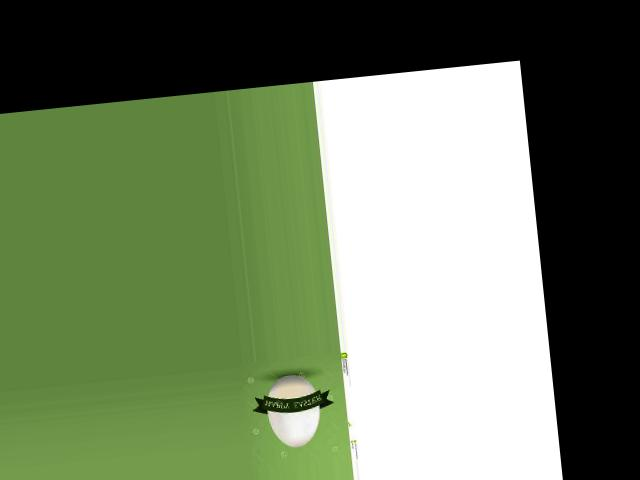egg: (265, 372, 324, 449)
